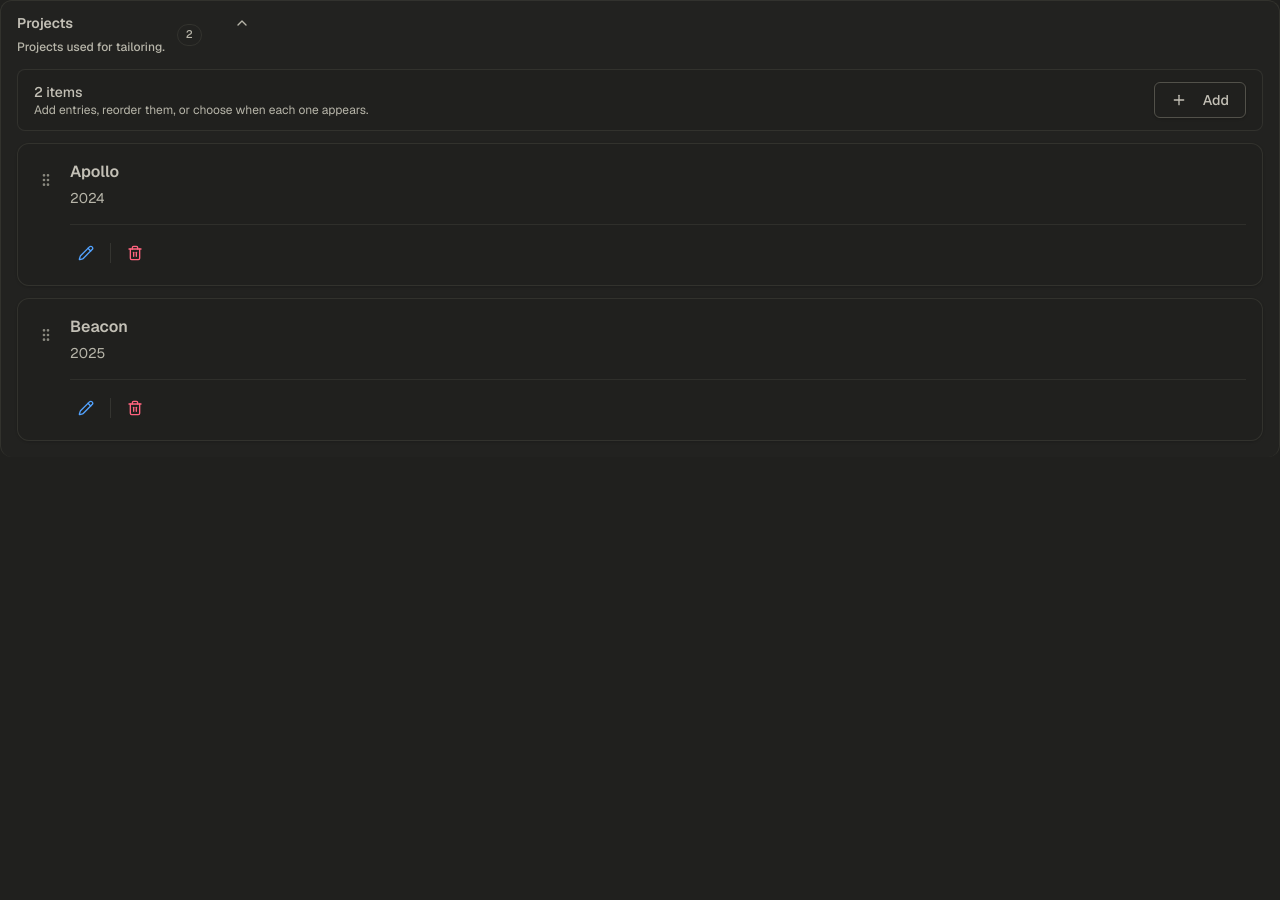
Scenario: DesignResumeListSection › does not remove an item when confirmation is cancelled
Click the 2nd button named "Remove". click: (135, 253)
box: [119,237,151,269]
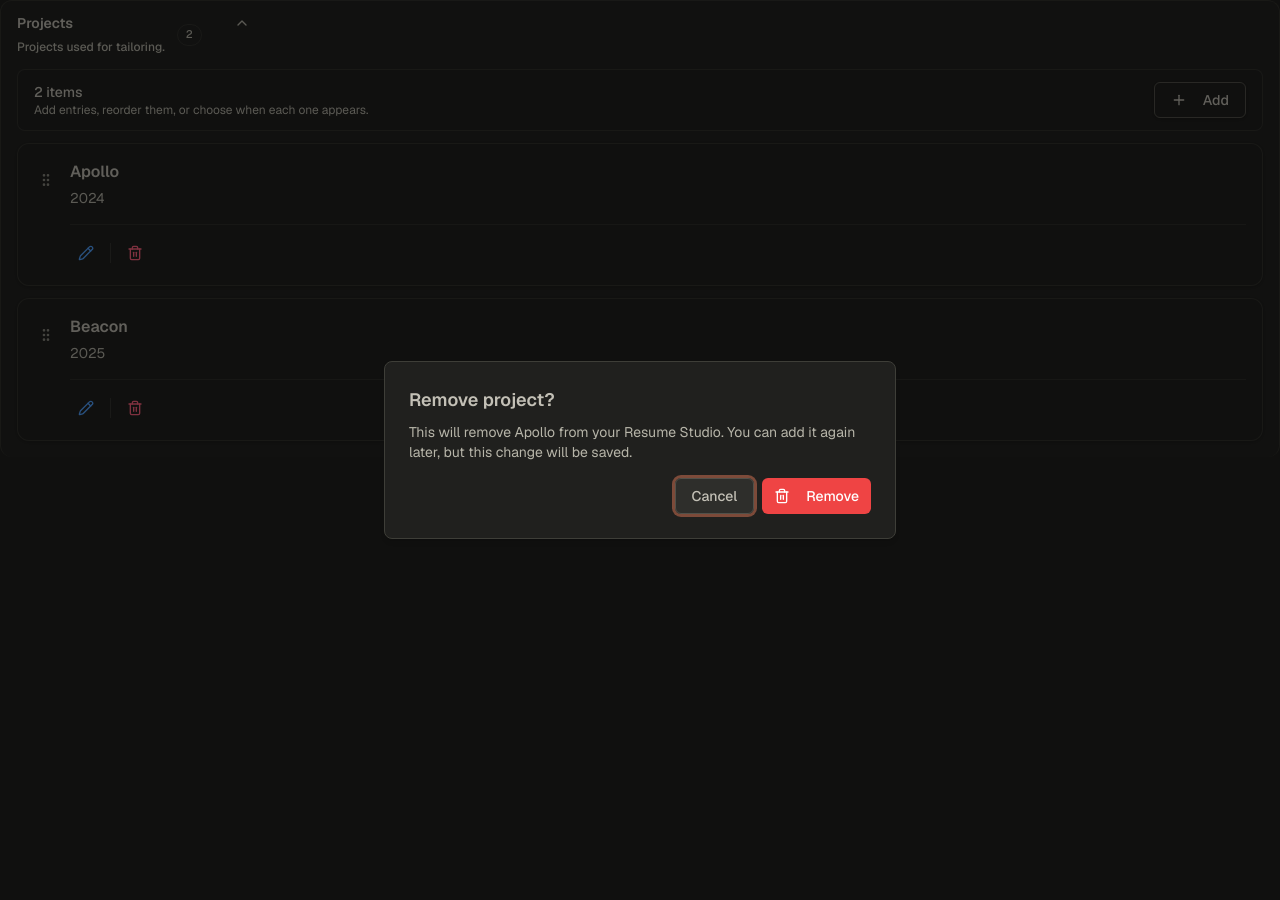
Click the button "Cancel". click: (714, 496)
box: [675,478,754,514]
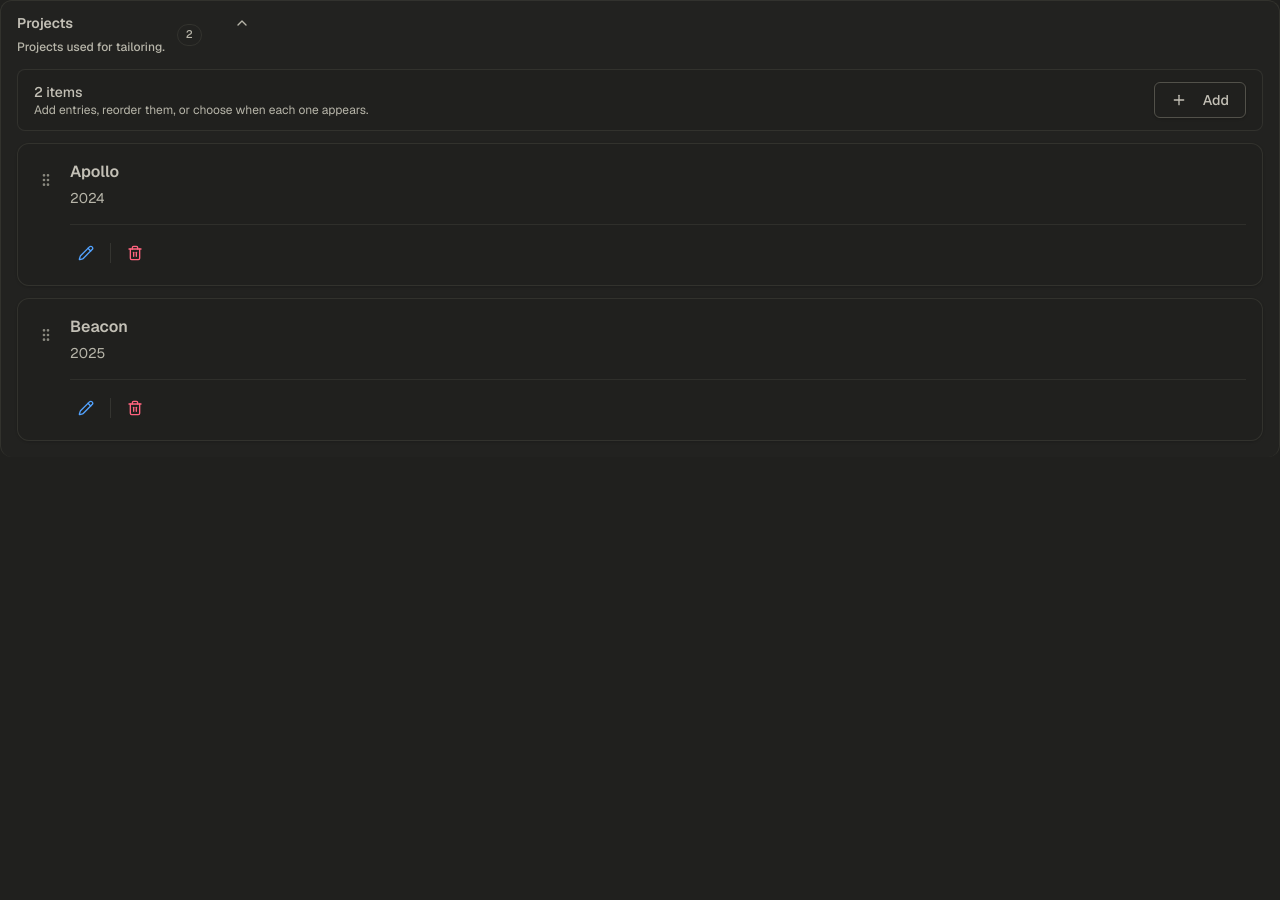
Now the dialog is gone
